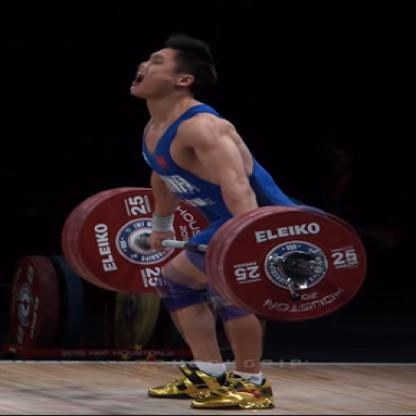barbell: (64, 186, 366, 319)
